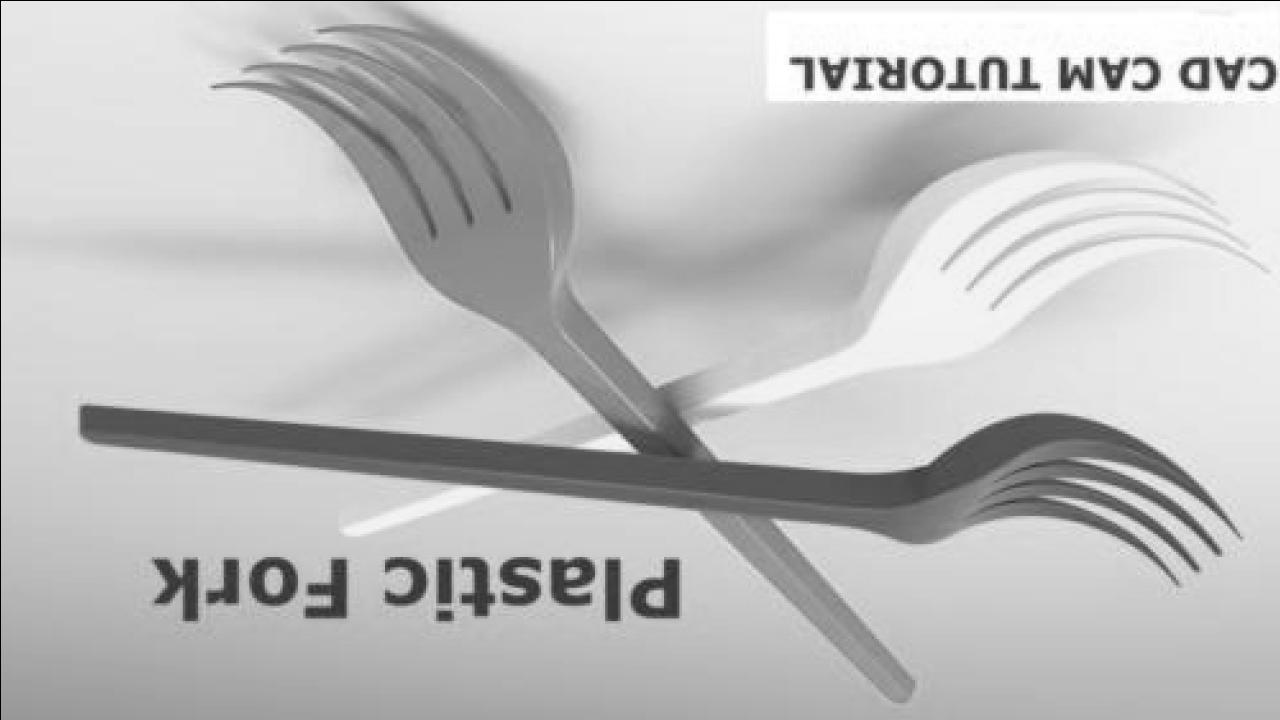fork: (210, 25, 919, 704), (336, 151, 1272, 543), (76, 400, 1244, 592)
